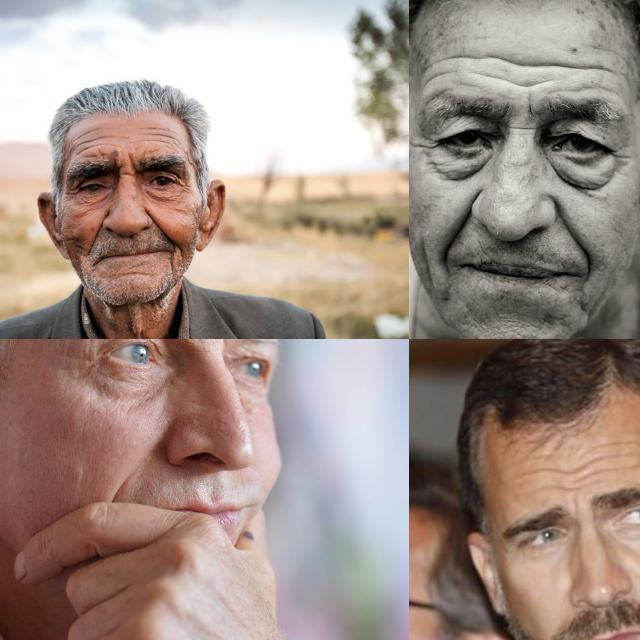chin: (116, 268, 152, 280)
crows_feet: (414, 134, 440, 156), (612, 148, 630, 168), (63, 180, 79, 200), (177, 175, 191, 192)
forehead: (463, 50, 619, 84), (524, 452, 570, 493), (576, 450, 608, 488), (612, 433, 640, 470), (420, 58, 448, 92), (72, 128, 108, 152), (146, 124, 178, 144)
frown_line: (508, 121, 536, 137), (126, 151, 138, 177)
gummy_smile: (548, 197, 590, 250), (449, 191, 477, 245), (144, 210, 172, 242), (90, 209, 106, 251)
masseter: (415, 240, 431, 284)
sad_smile: (103, 474, 137, 504), (434, 251, 456, 277), (578, 257, 594, 287)
